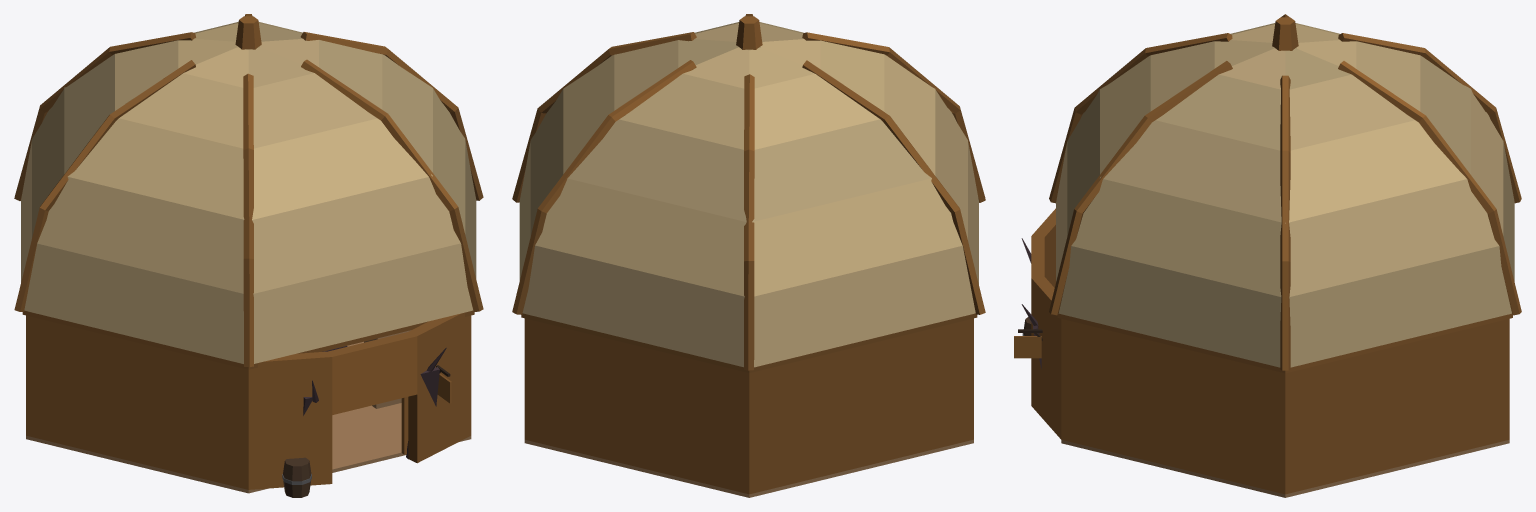
Rendered from walk_hive_tavern.glb.
The picture shows the model from 3 angles, left to right: view 1: azimuth 30°, elevation 25°; view 2: azimuth 150°, elevation 25°; view 3: azimuth 270°, elevation 25°; orthographic projection.
Visible parts, largest first — view 1: walk_hive_tavern_roof, walk_hive_tavern; view 2: walk_hive_tavern_roof, walk_hive_tavern; view 3: walk_hive_tavern_roof, walk_hive_tavern.
Boxes of the visible parts, box(x1,y1,x2,y2) form: walk_hive_tavern_roof: box(14, 14, 483, 369); walk_hive_tavern: box(26, 312, 471, 497); walk_hive_tavern_roof: box(512, 14, 985, 372); walk_hive_tavern: box(524, 318, 973, 497); walk_hive_tavern_roof: box(1049, 14, 1521, 373); walk_hive_tavern: box(1014, 208, 1509, 497).
Size of what is drawn, in the model's own units: 13.86 by 10.36 by 12.94.
2 materials, 2 textured.
